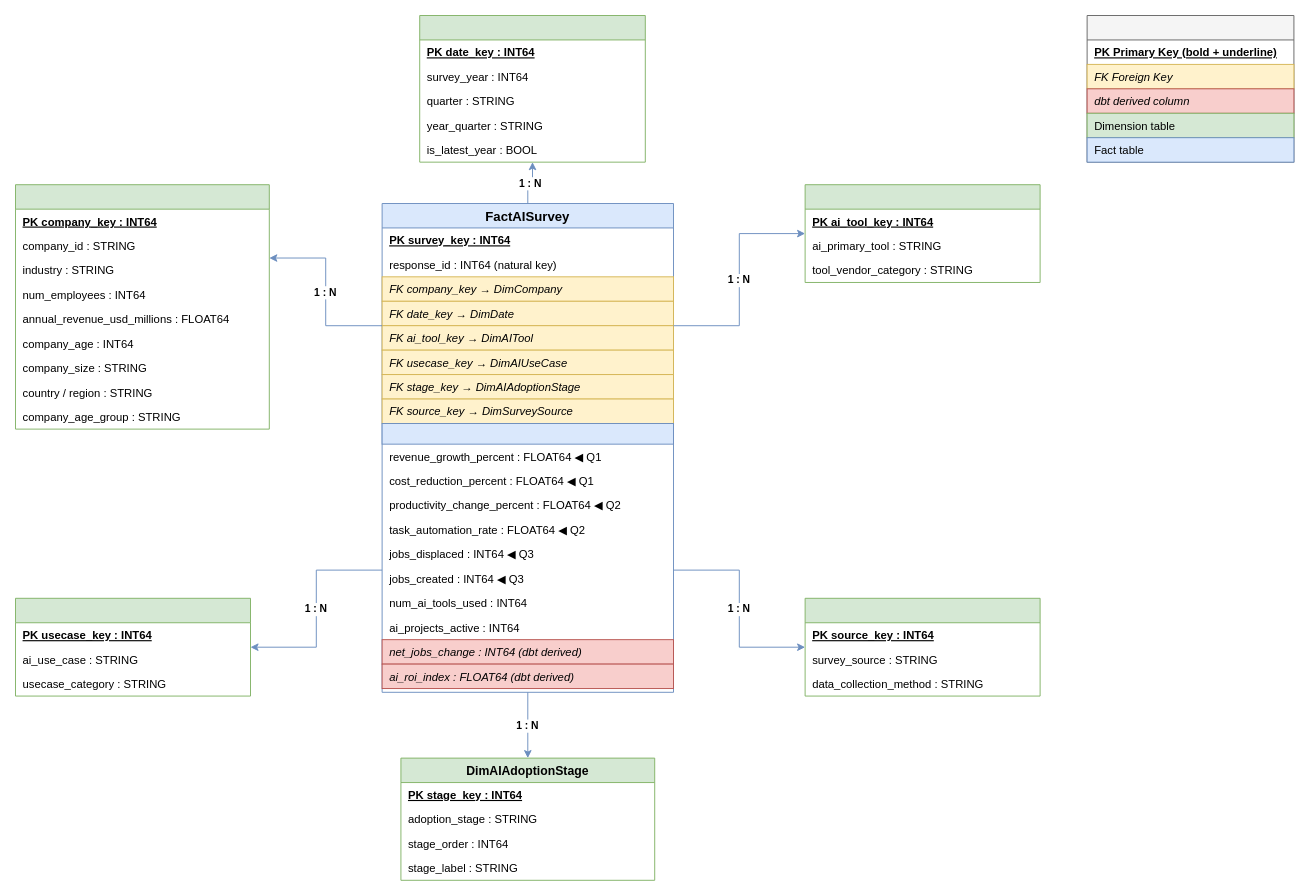
The diagram is 1309 pixels wide and 896 high, and some of its shapes have lost their labels. Each missing label, with the box of its shape:
DimAITool: (804, 184, 1040, 282)
DimAIUseCase: (15, 597, 251, 696)
DimCompany: (15, 184, 269, 429)
DimDate: (419, 15, 645, 162)
DimSurveySource: (804, 597, 1040, 696)
Legend: (1086, 15, 1294, 162)
───── Measures ─────: (381, 423, 674, 444)
